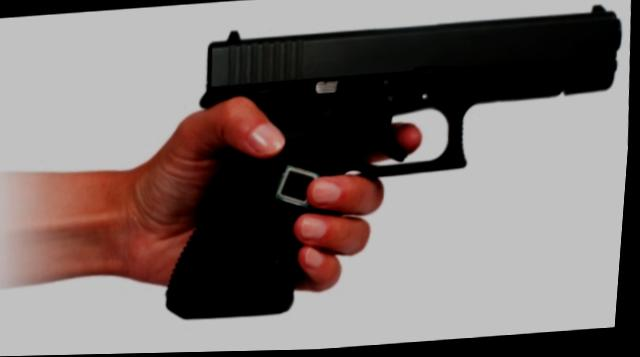pistol: (155, 3, 637, 322)
